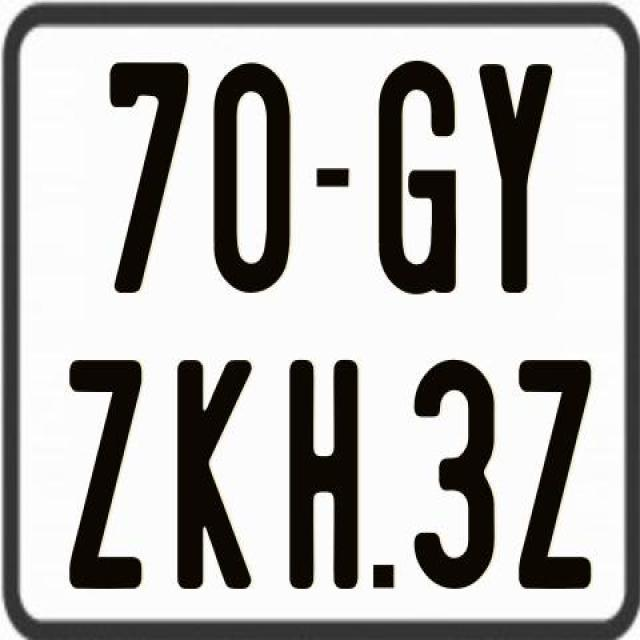0: (213, 58, 291, 295)
3: (412, 358, 498, 592)
7: (107, 61, 189, 291)
G: (377, 58, 455, 301)
H: (290, 357, 362, 594)
K: (176, 358, 256, 592)
Y: (480, 59, 560, 289)
Z: (66, 360, 142, 598), (516, 357, 590, 586)
